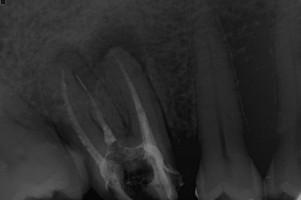Furcation Involvement: (88, 23, 146, 85), (53, 42, 81, 62)
